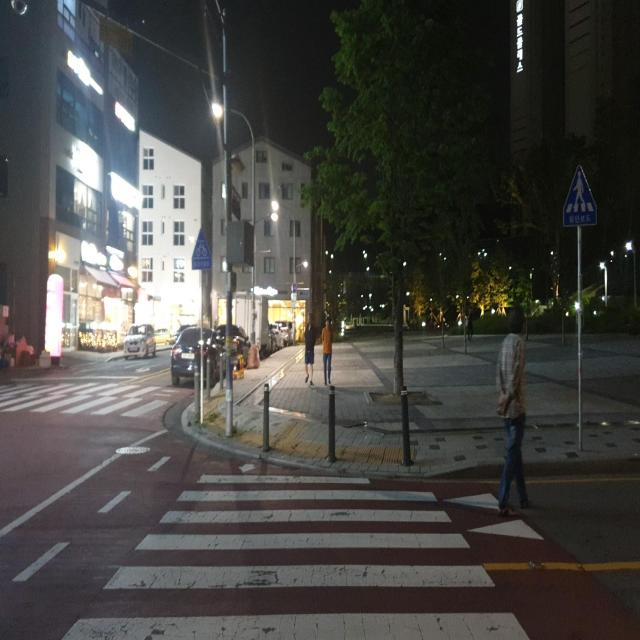횡단보도: (58, 462, 530, 639), (0, 372, 183, 417)
